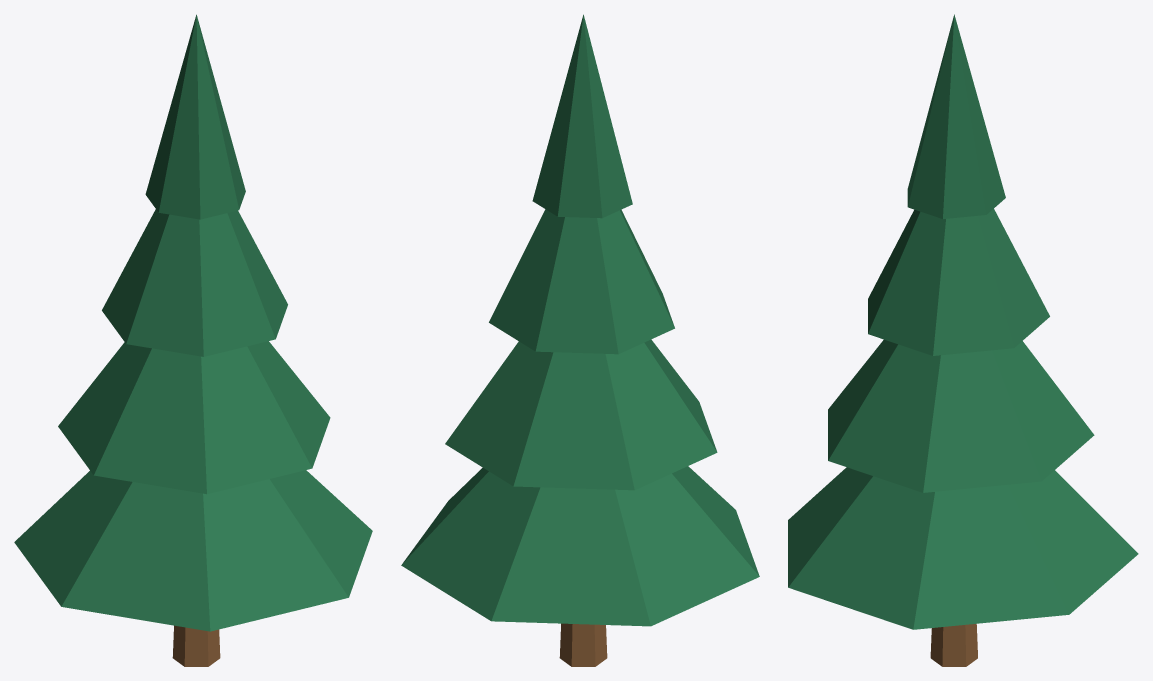
Rendered from Tree_Pine_A.fbx.
3 renders of one model, left to right at view 1: azimuth 30°, elevation 25°; view 2: azimuth 150°, elevation 25°; view 3: azimuth 270°, elevation 25°, orthographic.
Parts seen in each view (by area): view 1: Tree_Pine_A; view 2: Tree_Pine_A; view 3: Tree_Pine_A.
Boxes of the visible parts, x1,y1,x2,y2 form: Tree_Pine_A: [14, 14, 372, 666]; Tree_Pine_A: [401, 14, 759, 666]; Tree_Pine_A: [788, 14, 1138, 666].
Size of the model in its own units: 3.02 by 5.97 by 2.95.
Materials: 1 (1 with a texture image).
